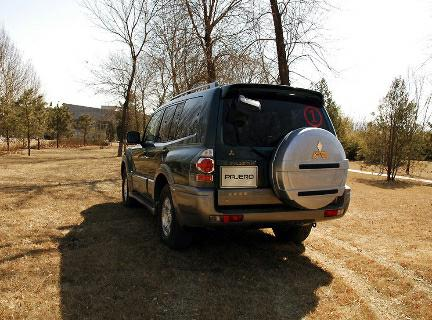三菱-帕杰罗: (112, 80, 360, 260)
